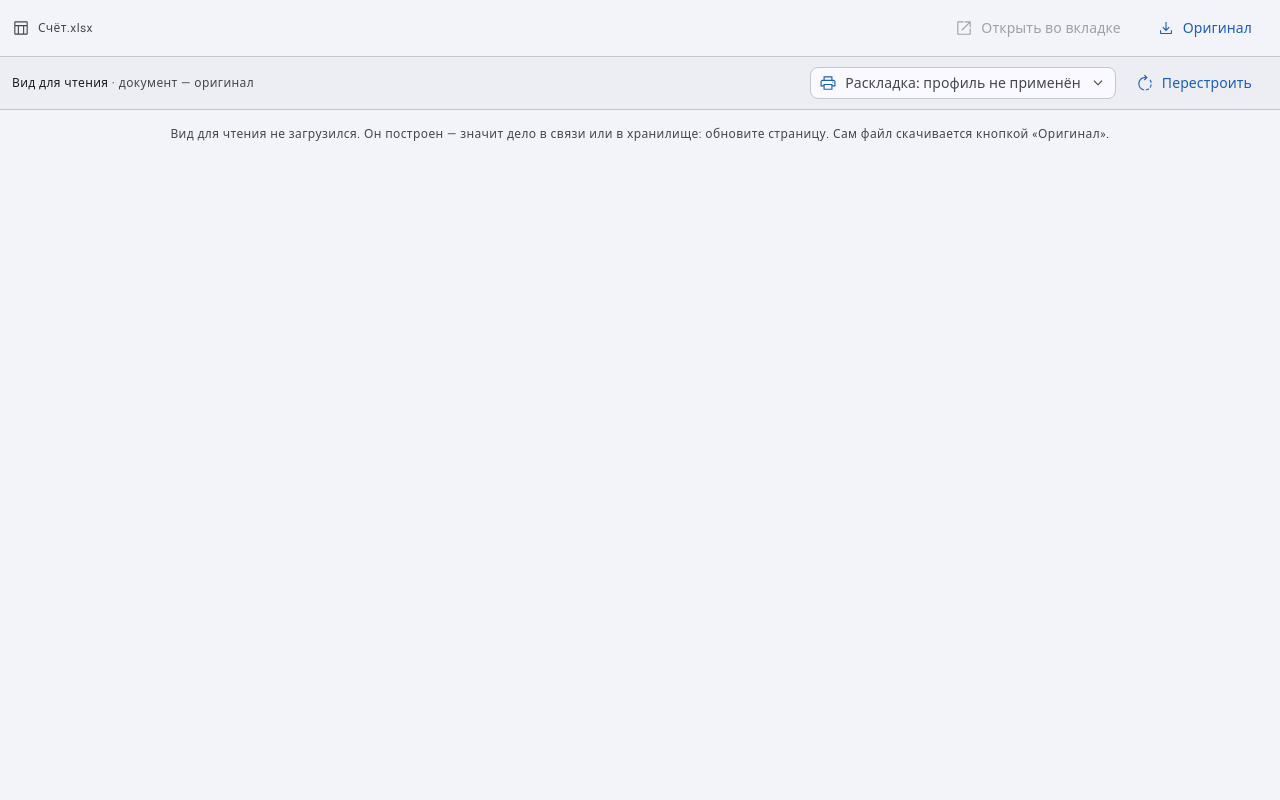
Test: вид для чтения: профиль печати › профиль не применён — подпись чипа, а почему — пометка в подсказке и окне, не строкой
Check: the text "Раскладку по профилю применить не удалось — вид построен по файлу как есть." is not shown
Step 1. Click the button with test id "layout-chip" → (963,83), box x1=810 y1=67 x2=1116 y2=99
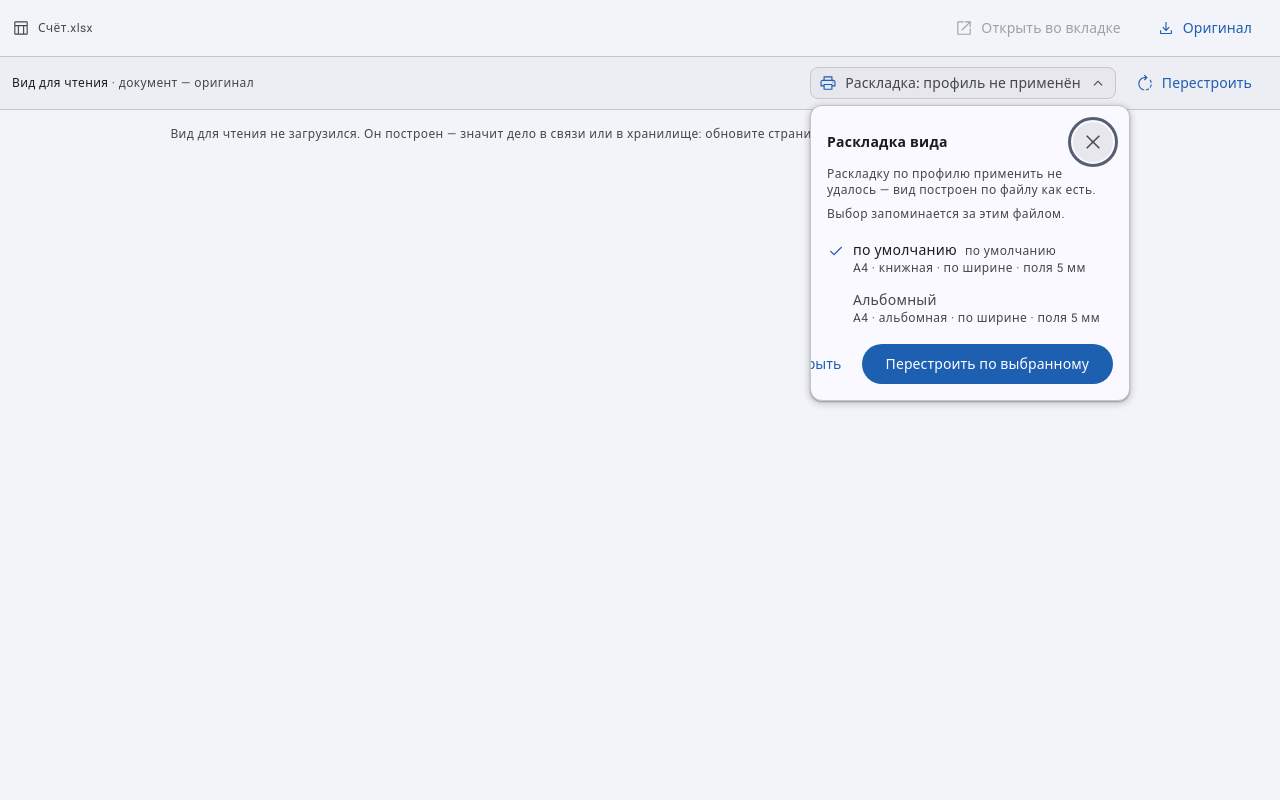
Check: the text with test id "layout-note" reads "Раскладку по профилю применить не удалось — вид построен по файлу как есть.", box x1=827 y1=167 x2=1096 y2=197
